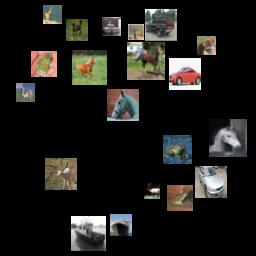automobile: (169, 58, 201, 90), (195, 166, 227, 198)
deer: (45, 158, 77, 190), (43, 5, 62, 24), (144, 183, 160, 199), (128, 24, 144, 40)
dog: (66, 19, 88, 41), (197, 36, 216, 55), (16, 83, 35, 102)
frog: (163, 135, 192, 164), (31, 51, 57, 77), (167, 185, 193, 211)
ship: (71, 216, 106, 251), (110, 214, 132, 236), (102, 17, 121, 36)
truck: (145, 9, 177, 41)
